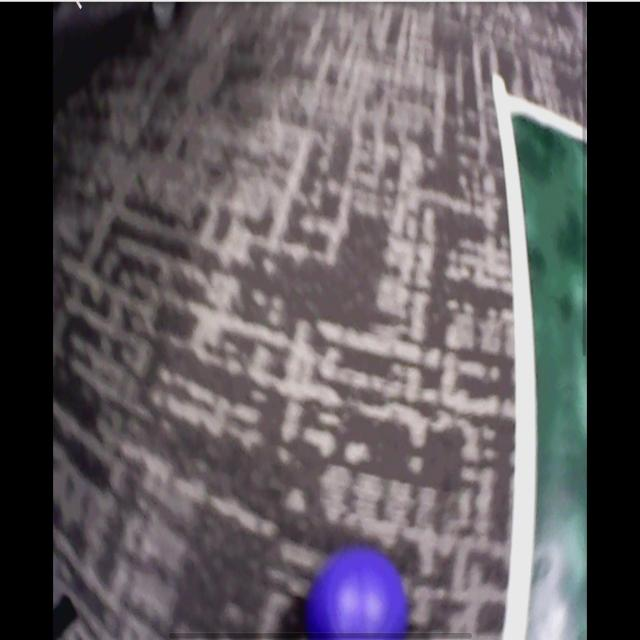ball: (310, 550, 407, 632)
